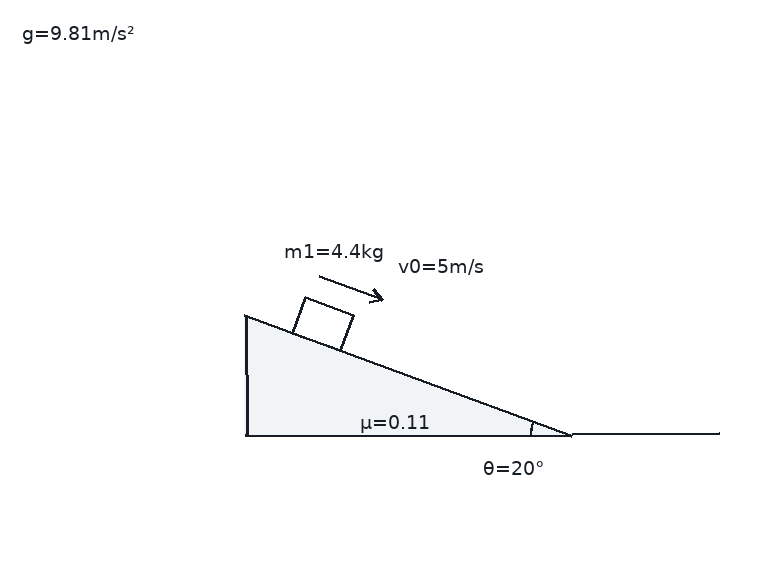block: (290, 295, 355, 352)
ramp: (243, 313, 573, 436)
